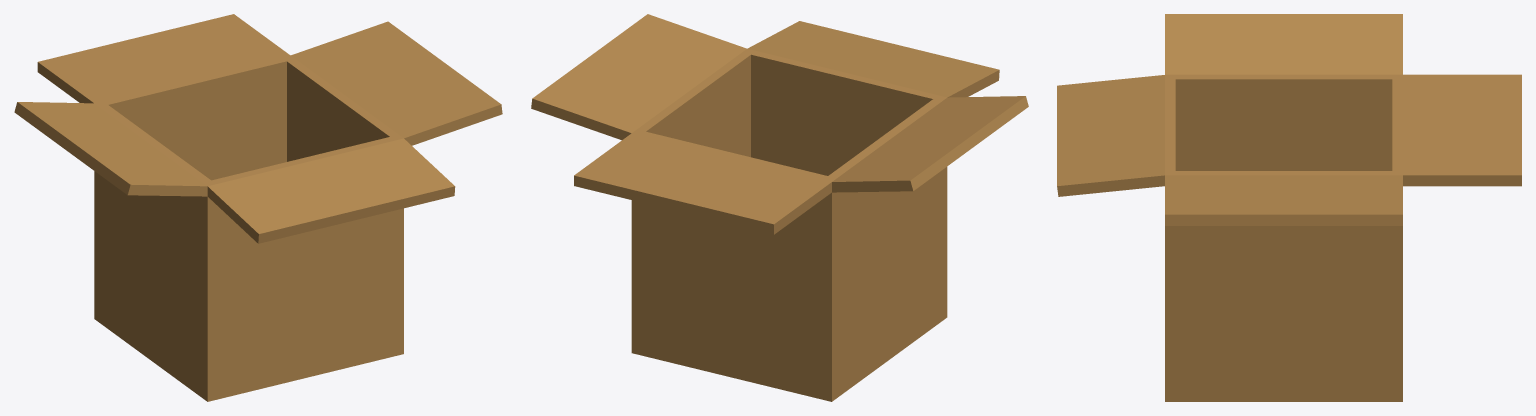
File: Box_Open01.fbx
The picture shows the model from 3 angles, left to right: view 1: azimuth 30°, elevation 25°; view 2: azimuth 150°, elevation 25°; view 3: azimuth 270°, elevation 25°; orthographic projection. The views are drawn at different scales.
Visible parts, largest first — view 1: Box_Open01; view 2: Box_Open01; view 3: Box_Open01.
Part boxes in pixels (x1=…): Box_Open01: x1=14, y1=14, x2=502, y2=401; Box_Open01: x1=531, y1=14, x2=1028, y2=401; Box_Open01: x1=1057, y1=14, x2=1521, y2=401.
Size of the model in its own units: 382 by 230 by 391.
